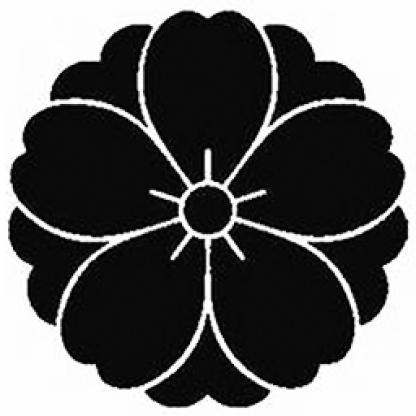kamon: (5, 6, 409, 408)
